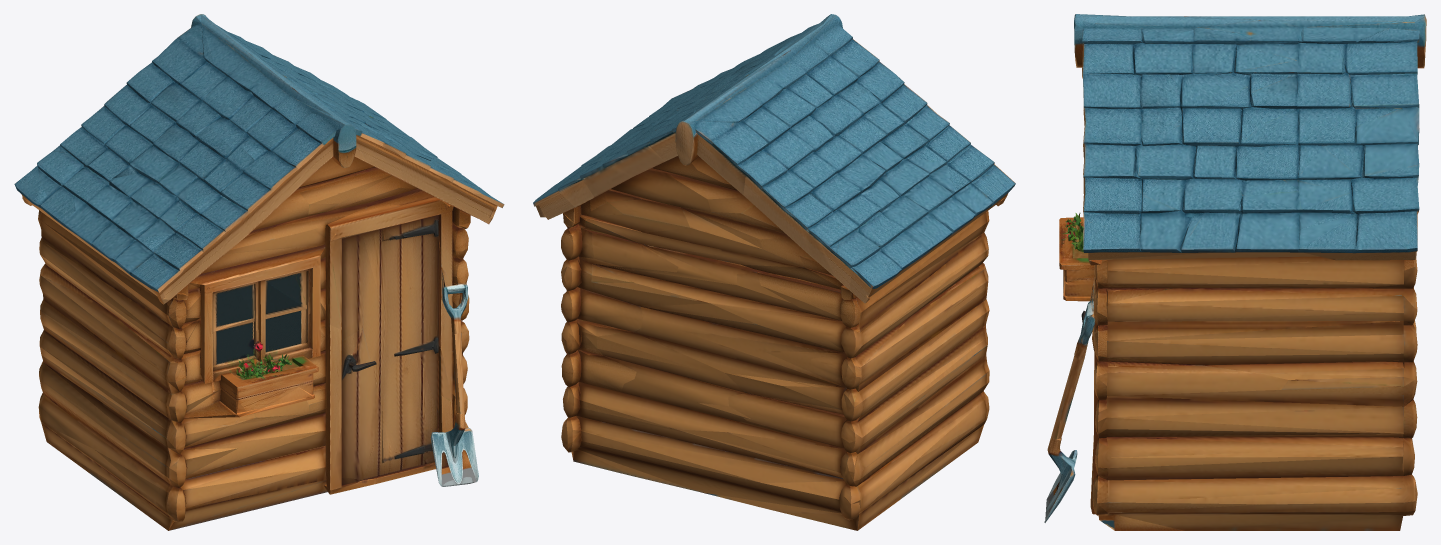
File: potting_shed.glb
The picture shows the model from 3 angles, left to right: view 1: azimuth 30°, elevation 25°; view 2: azimuth 150°, elevation 25°; view 3: azimuth 270°, elevation 25°; orthographic projection. The views are drawn at different scales.
Visible parts, largest first — view 1: geometry_0; view 2: geometry_0; view 3: geometry_0.
Boxes of the visible parts, <box> form: geometry_0: <box>14,14,504,530</box>; geometry_0: <box>533,14,1015,530</box>; geometry_0: <box>1044,14,1426,530</box>.
Size of the model in its own units: 2.6 by 2.7 by 2.1.
Materials: 1 (1 with a texture image).
